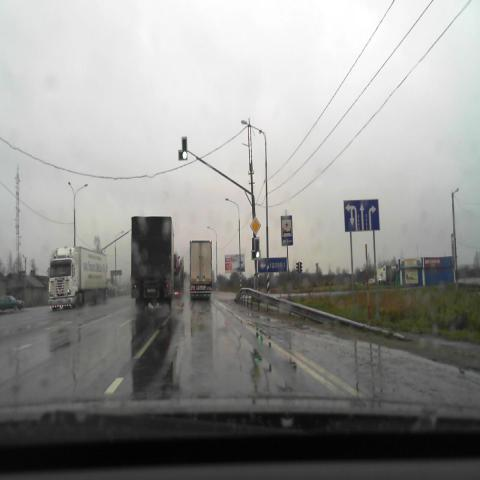7_2: (280, 215, 294, 246)
